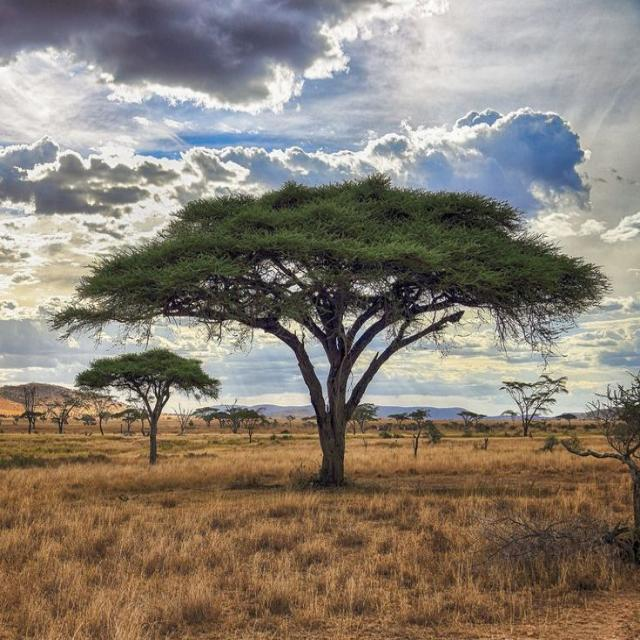Acacia: (169, 188, 588, 483), (77, 352, 204, 466)
